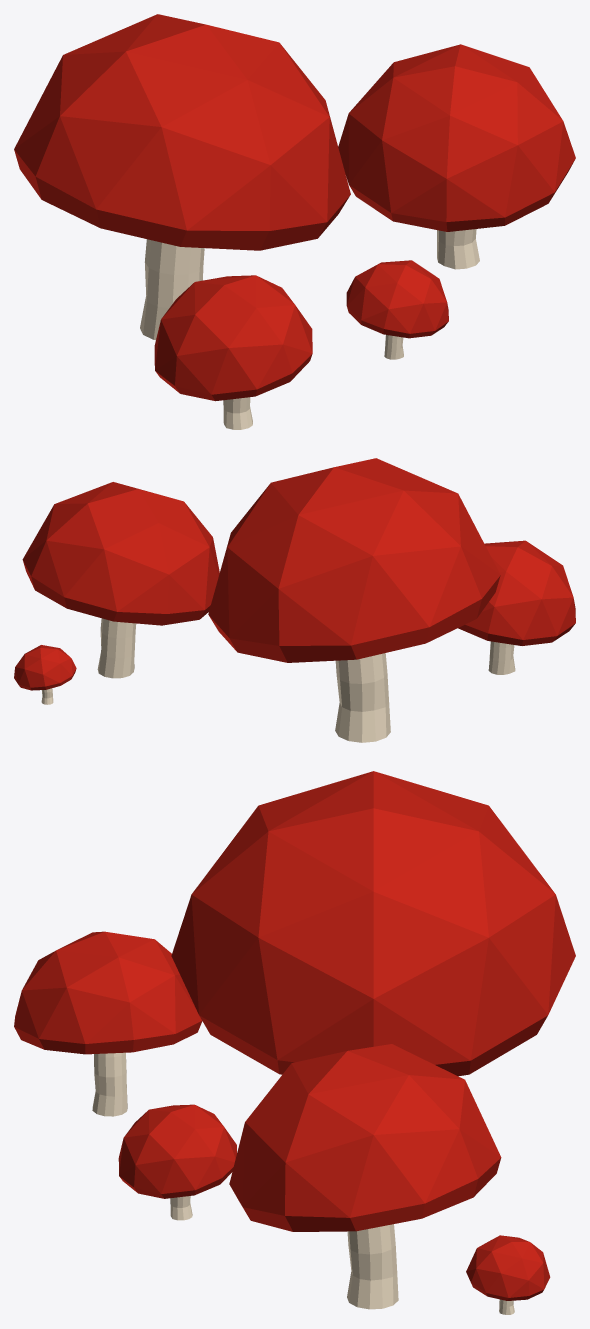
File: Pilze 1.fbx
The picture shows the model from 3 angles, top to bottom: view 1: azimuth 30°, elevation 25°; view 2: azimuth 150°, elevation 25°; view 3: azimuth 270°, elevation 25°; orthographic projection. The views are drawn at different scales.
Visible parts, largest first — view 1: pilzRot; view 2: pilzRot; view 3: pilzRot.
Boxes of the visible parts, x1=… form: pilzRot: x1=14, y1=14, x2=575, y2=429; pilzRot: x1=14, y1=458, x2=575, y2=742; pilzRot: x1=14, y1=771, x2=575, y2=1314.
Size of the model in its own units: 49.97 by 27.31 by 40.07.
